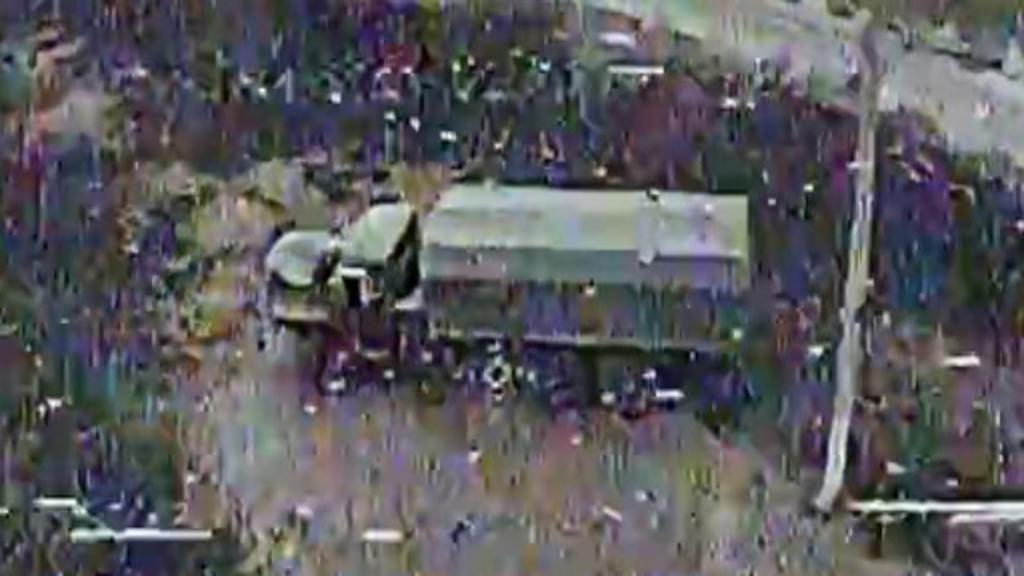TRUCK: (248, 172, 762, 414)
